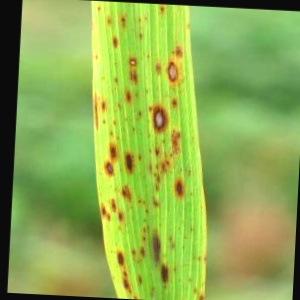Bacterial_Leaf_Blight: (148, 225, 164, 266), (90, 86, 103, 136), (150, 105, 171, 135), (170, 174, 190, 204), (165, 58, 181, 88), (117, 182, 136, 206), (168, 128, 183, 158), (157, 261, 172, 290), (123, 150, 136, 178), (107, 140, 122, 164), (119, 276, 134, 295), (108, 32, 121, 53), (103, 159, 116, 180), (114, 248, 127, 269), (97, 200, 110, 218), (123, 88, 133, 107), (115, 209, 127, 224), (109, 197, 119, 215), (134, 272, 145, 287), (104, 13, 114, 29), (127, 55, 138, 69), (99, 98, 108, 115), (118, 15, 128, 30), (137, 246, 147, 261), (152, 180, 161, 196), (151, 195, 161, 209), (154, 61, 163, 76), (104, 211, 113, 226), (137, 28, 146, 42), (144, 290, 158, 299), (118, 268, 130, 278), (147, 160, 154, 177), (175, 45, 184, 58), (160, 162, 168, 176), (170, 97, 179, 109), (167, 242, 179, 251), (154, 171, 163, 183), (111, 75, 121, 85), (195, 292, 207, 300), (158, 5, 167, 15), (95, 3, 104, 13), (153, 147, 162, 157), (141, 225, 150, 235), (139, 235, 149, 244), (197, 204, 207, 213), (201, 255, 209, 266), (110, 119, 119, 128), (107, 129, 116, 138), (185, 275, 194, 284), (129, 248, 139, 256), (184, 21, 192, 31), (177, 165, 185, 175), (168, 150, 176, 160), (99, 72, 107, 82), (145, 52, 152, 63), (136, 152, 143, 163), (147, 103, 154, 114), (92, 54, 100, 63), (136, 196, 144, 205), (143, 207, 151, 216), (140, 218, 149, 226), (129, 255, 138, 263), (143, 87, 151, 96), (187, 190, 195, 199), (166, 235, 174, 244), (155, 160, 161, 172), (121, 114, 129, 123), (137, 108, 144, 118), (176, 275, 183, 285), (192, 285, 199, 295), (129, 214, 136, 224), (108, 246, 115, 256), (179, 245, 187, 253), (130, 292, 138, 300), (112, 60, 119, 69), (115, 101, 122, 110), (195, 254, 202, 263), (134, 90, 140, 100), (137, 16, 144, 24), (100, 118, 107, 126), (116, 224, 123, 232), (160, 138, 167, 146), (186, 169, 193, 177), (109, 274, 116, 282), (165, 158, 171, 167), (147, 146, 153, 155), (143, 15, 150, 22), (171, 267, 178, 274), (147, 271, 154, 278), (150, 285, 157, 292), (119, 125, 126, 132), (131, 126, 137, 134), (188, 226, 194, 233), (176, 226, 182, 232)
